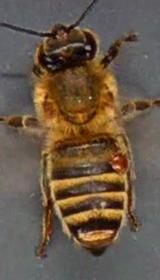varroa_mite: (102, 143, 135, 182)
